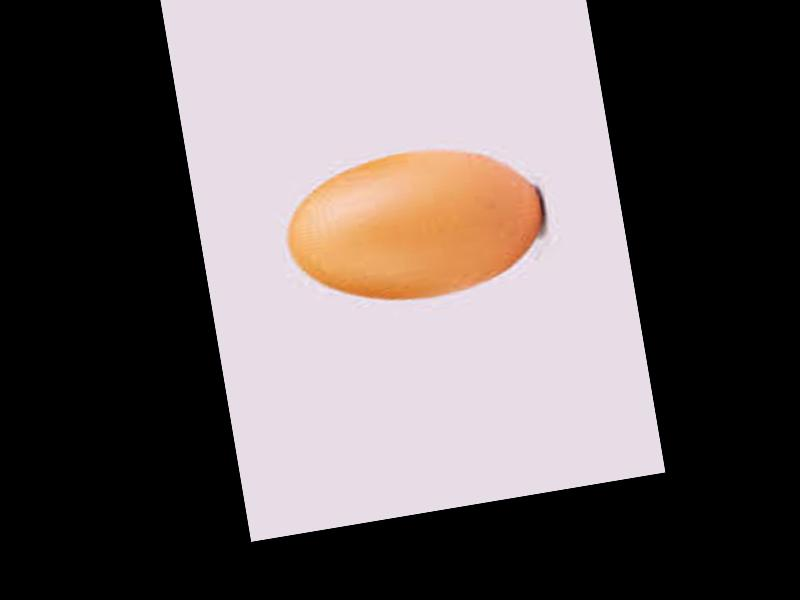Eggs: (273, 133, 555, 318)
